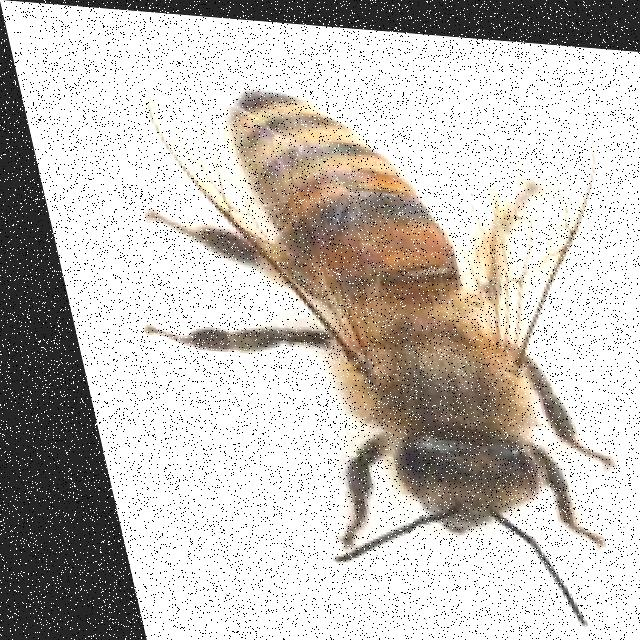Apis-mellifera-scutellata: (66, 51, 640, 634)
